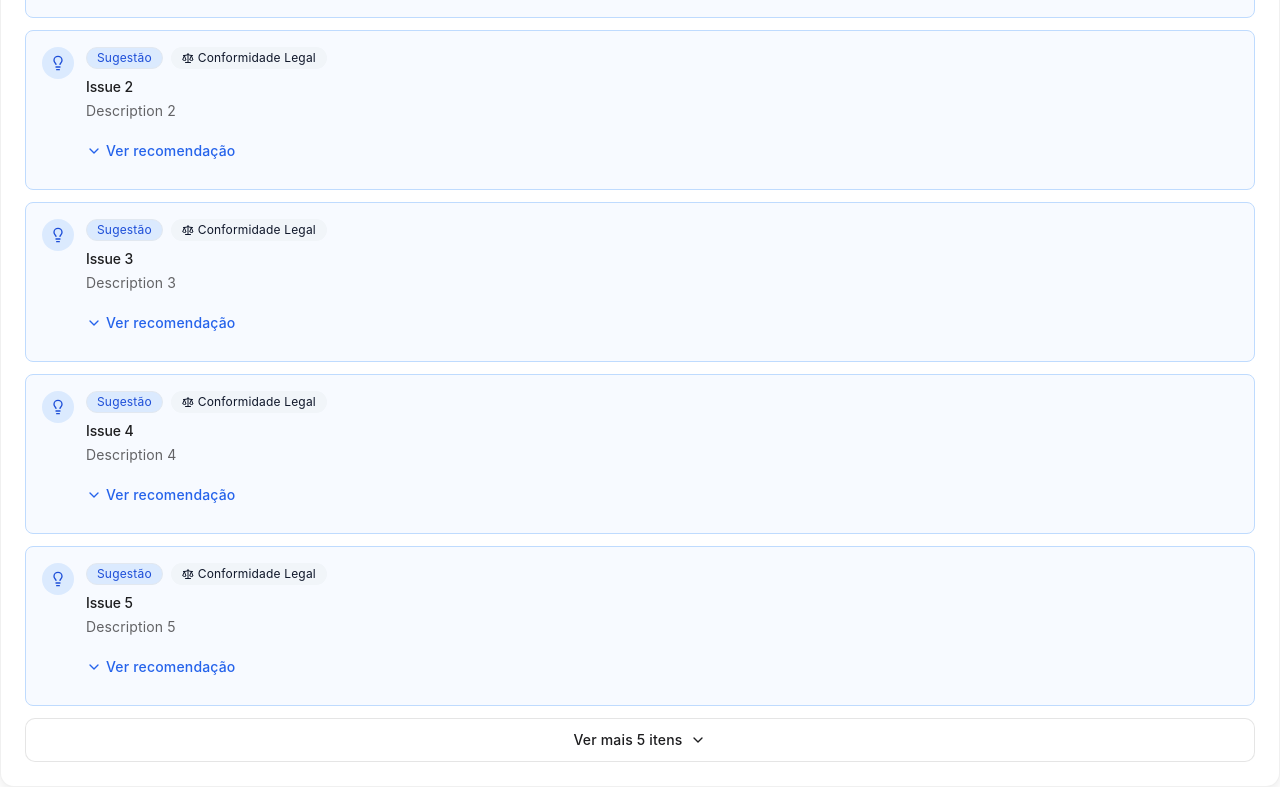
Test: ImprovementList › Show More/Less › shows "show less" button after expanding
The width and height of the screenshot is (1280, 787).
(page scrolled)
Click the button "Ver mais 5 itens" at point(640, 740), box [25, 718, 1255, 762]
(page scrolled)
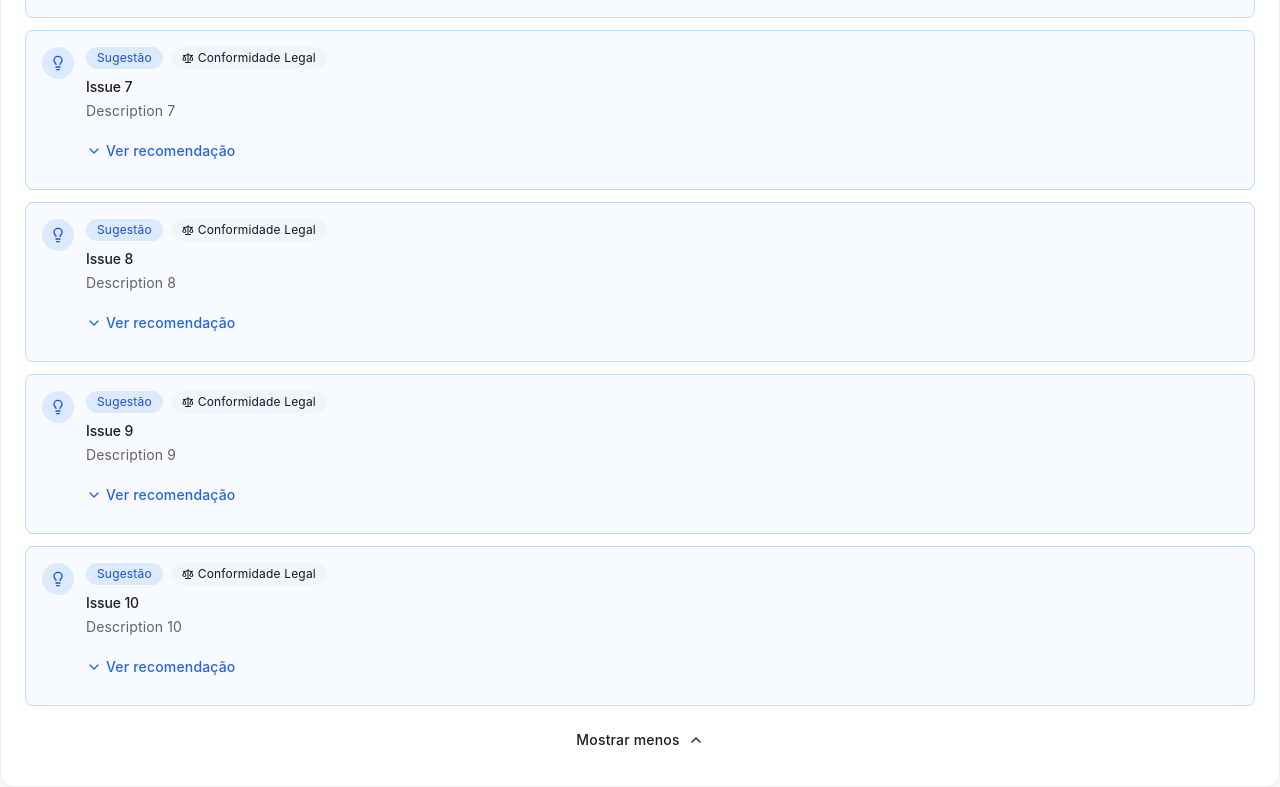
Result: the button "Mostrar menos" is shown at [25, 718, 1255, 762]
